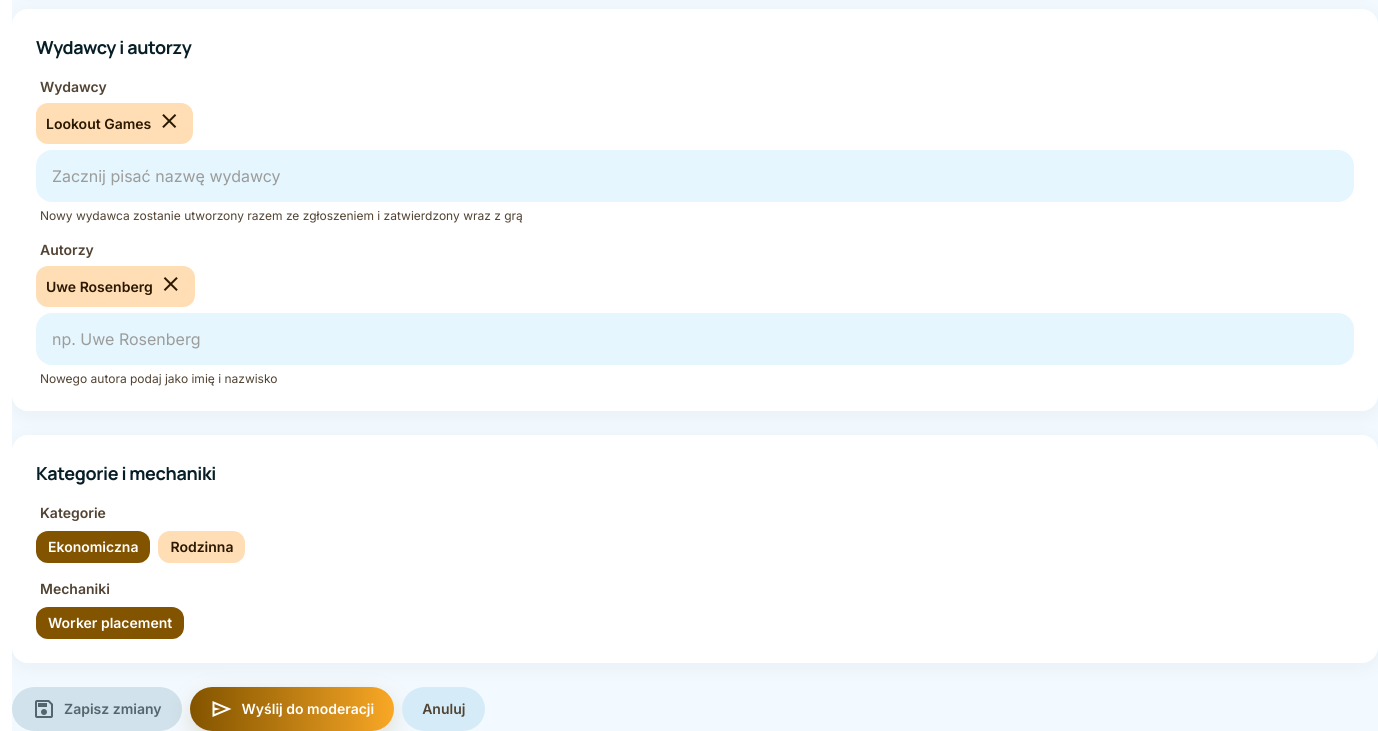
GameFormPage — edycja › INVALID_PLAYER_COUNT z backendu ląduje przy polu „maks. graczy"
The image size is (1378, 731).
(page scrolled)
Click the button "Zapisz zmiany". click: (97, 709)
box: [12,687,182,730]
(page scrolled)
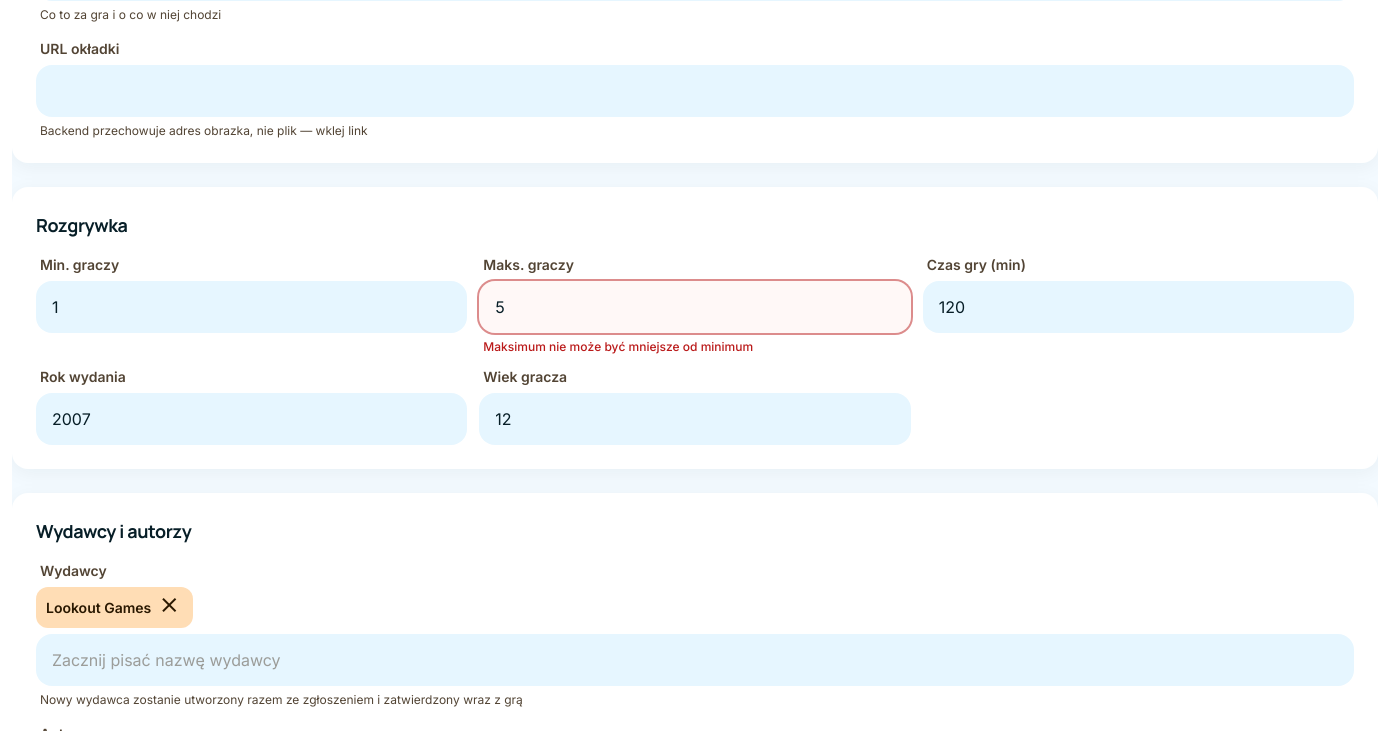
Expected: the text "Maksimum nie może być mniejsze od minimum" is shown, [483,339,753,354]
